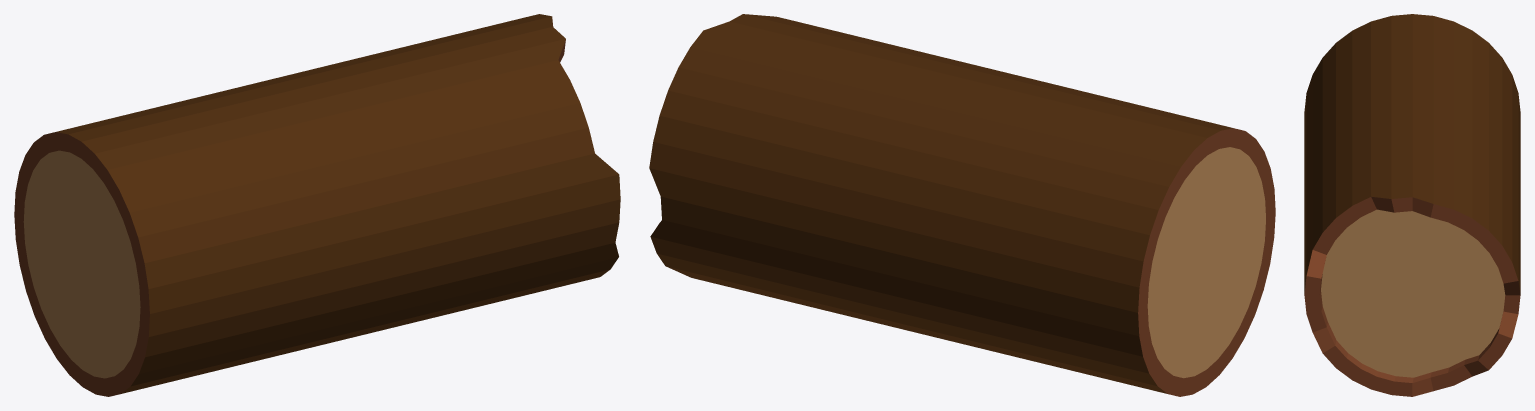
The model's file is LogRight.fbx.
3 renders of one model, left to right at view 1: azimuth 30°, elevation 25°; view 2: azimuth 150°, elevation 25°; view 3: azimuth 270°, elevation 25°, orthographic. The views are drawn at different scales.
Visible parts, largest first — view 1: Бревно право; view 2: Бревно право; view 3: Бревно право.
Boxes of the visible parts, x1,y1,x2,y2 form: Бревно право: [14, 14, 620, 396]; Бревно право: [649, 14, 1275, 396]; Бревно право: [1304, 14, 1520, 396].
Bounding box in the file's own units: 621 × 300 × 300.
